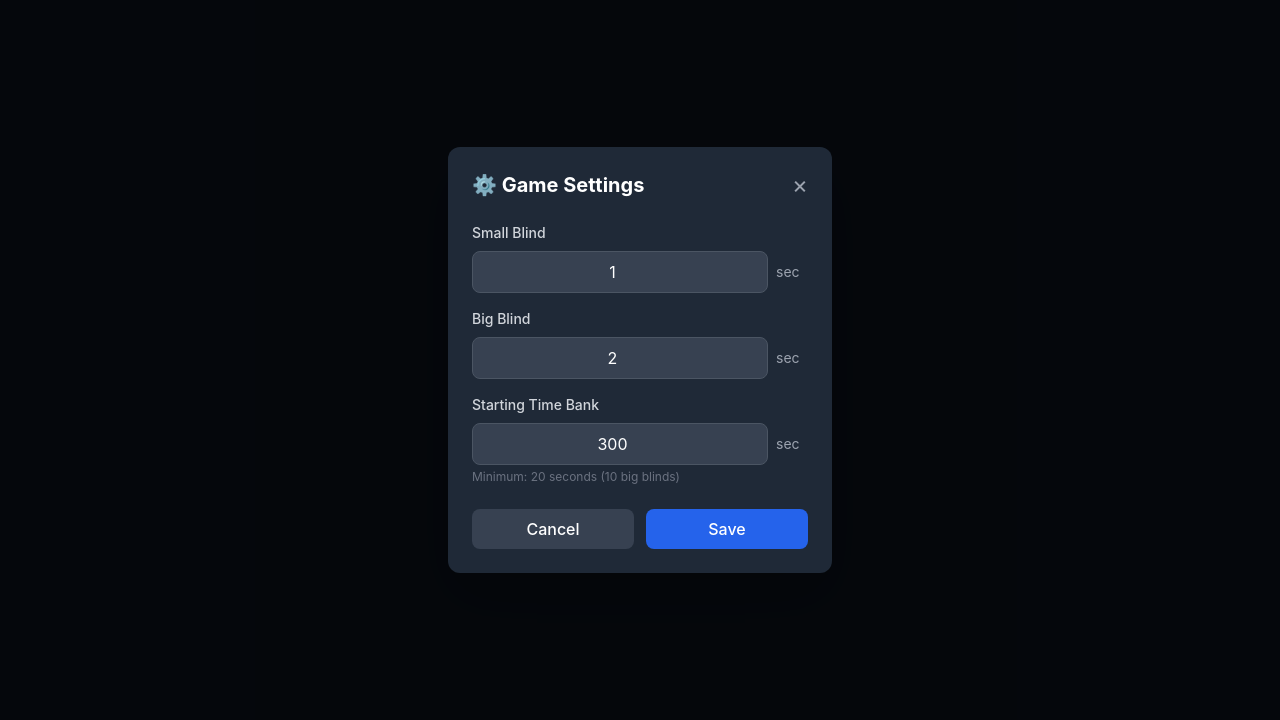
Test case: SettingsModal › inputs › should raise time bank to the new minimum when big blind increases past it
Check: the number field below "Starting Time Bank" holds "300", box x1=472 y1=423 x2=768 y2=465
Replace the text in the 2nd number field with "40" at (620,358), box x1=472 y1=337 x2=768 y2=379
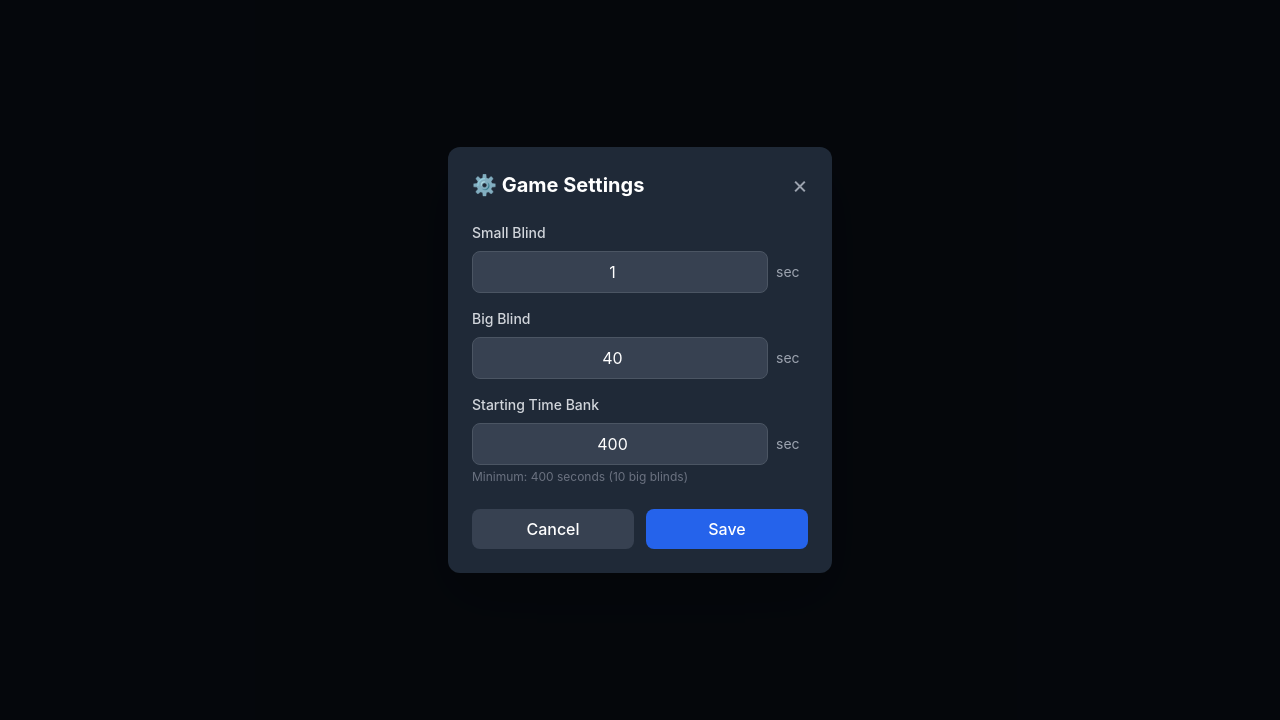
Check: the number field below "Starting Time Bank" holds "400", box x1=472 y1=423 x2=768 y2=465
